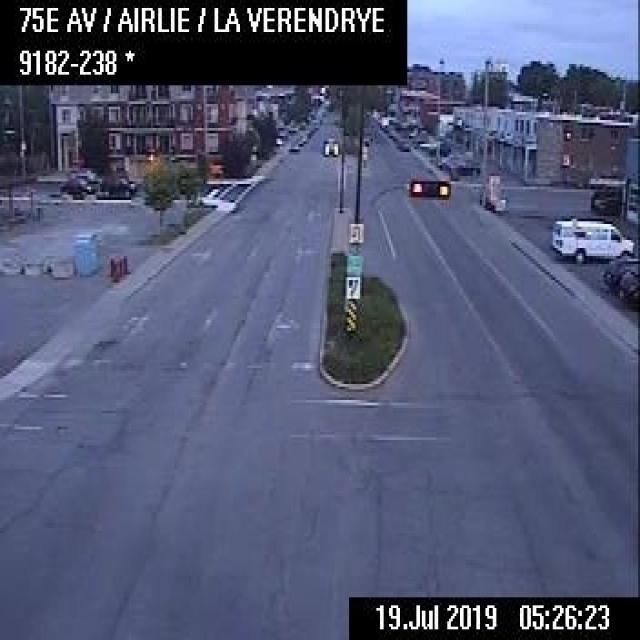construction: (112, 258, 118, 280), (120, 252, 126, 273), (108, 254, 114, 274), (116, 256, 121, 274)
vehicle: (550, 215, 635, 261), (603, 254, 638, 286), (55, 170, 95, 195), (98, 172, 135, 195), (449, 157, 478, 176), (440, 150, 462, 166), (322, 136, 338, 157), (398, 138, 410, 152), (287, 141, 299, 151), (294, 136, 304, 145)
